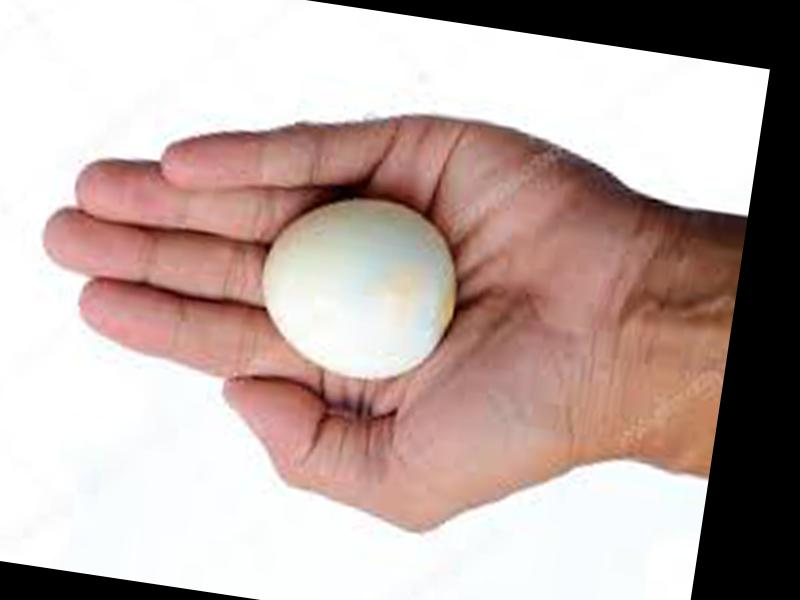Eggs: (247, 187, 467, 386)
